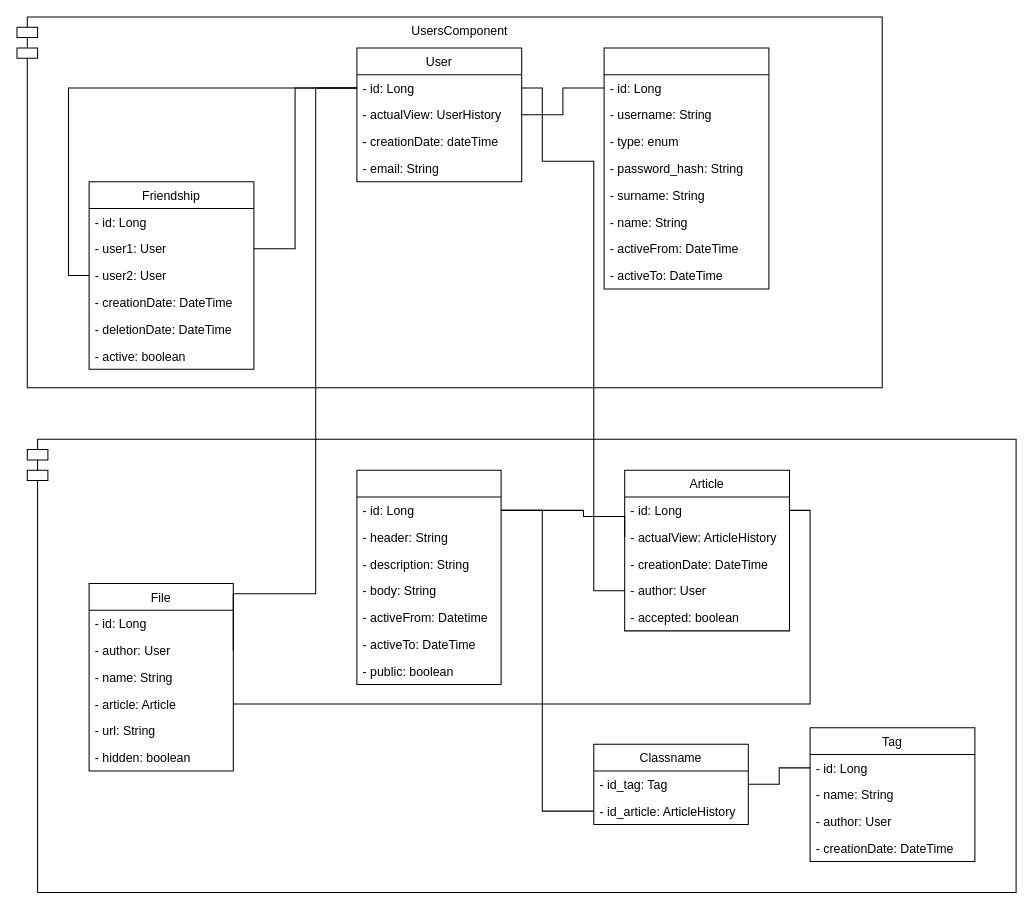
The diagram is 1033 pixels wide and 909 high, and some of its shapes have lost their labels. The shapes that lost their labels are listed below. From the top down, each one's box as (x1, y1, x2, y2) in pixels, then its label:
(603, 47, 769, 289): UserHistory
(356, 469, 501, 684): ArticleHistory
(26, 438, 1016, 892): ArticleComponent
